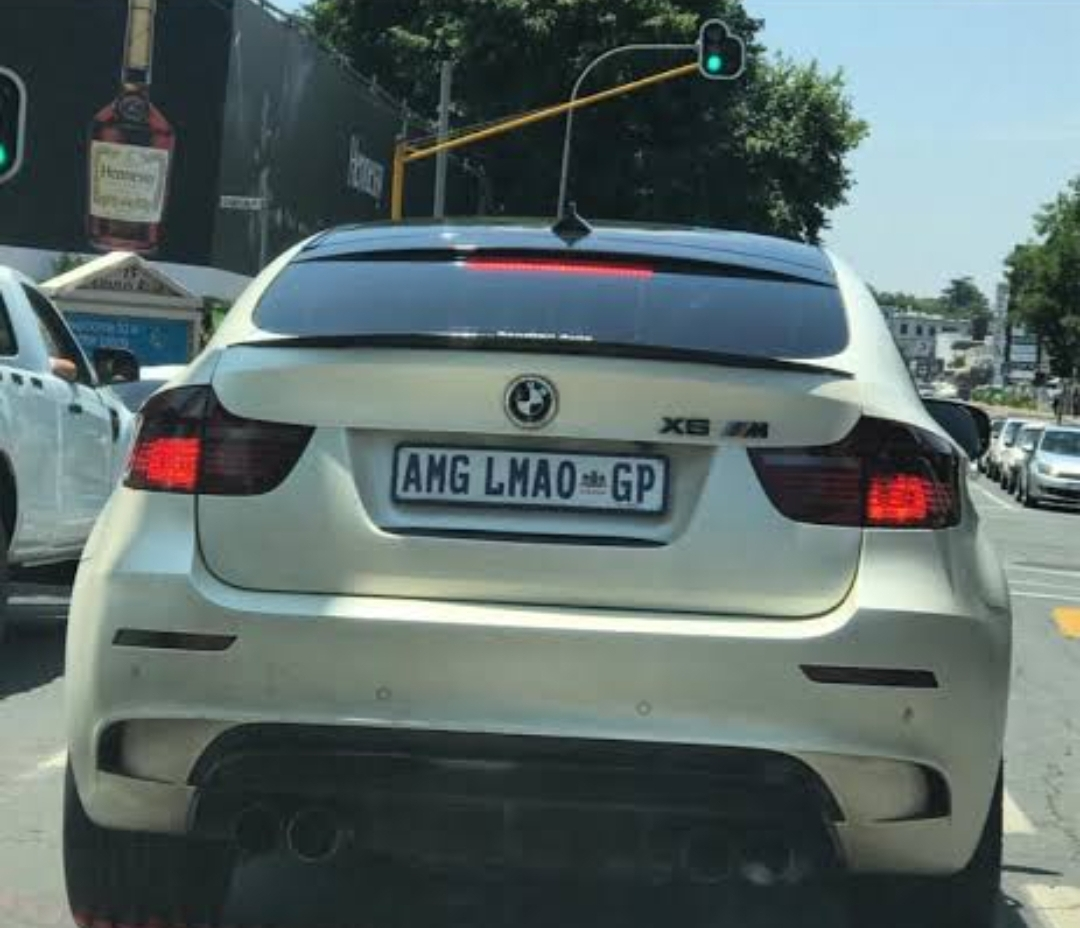number_plate: (378, 422, 680, 536)
